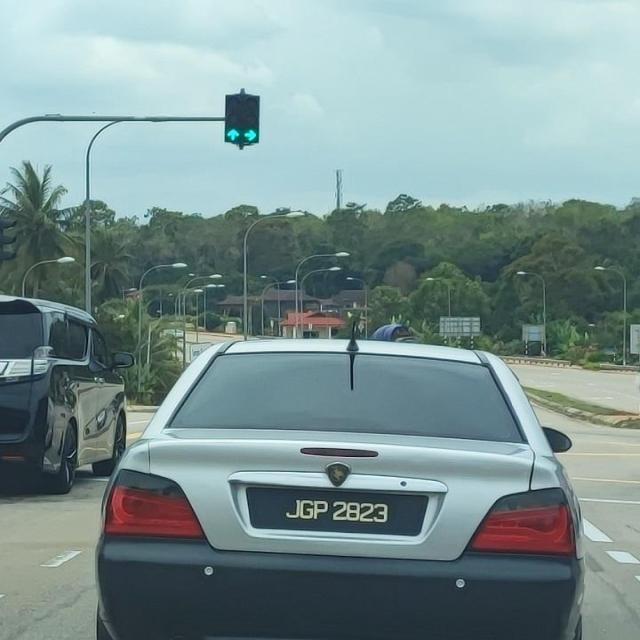green_light: (224, 93, 244, 142), (242, 94, 260, 142)
